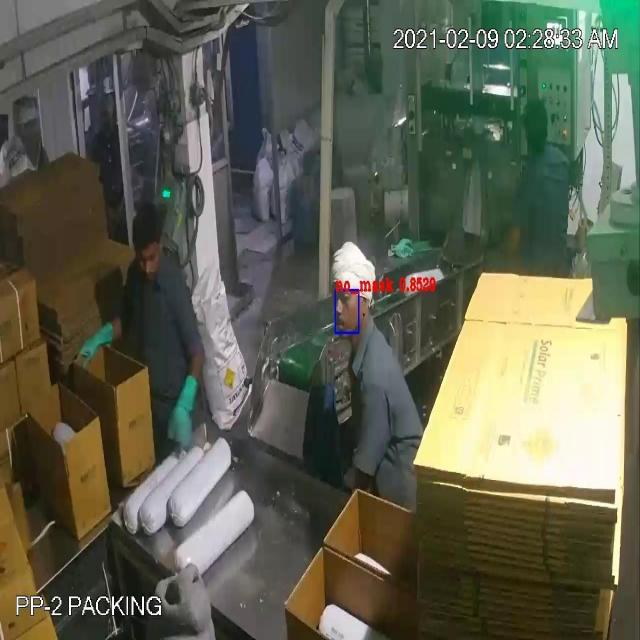Gloves: (42, 58, 180, 410)
